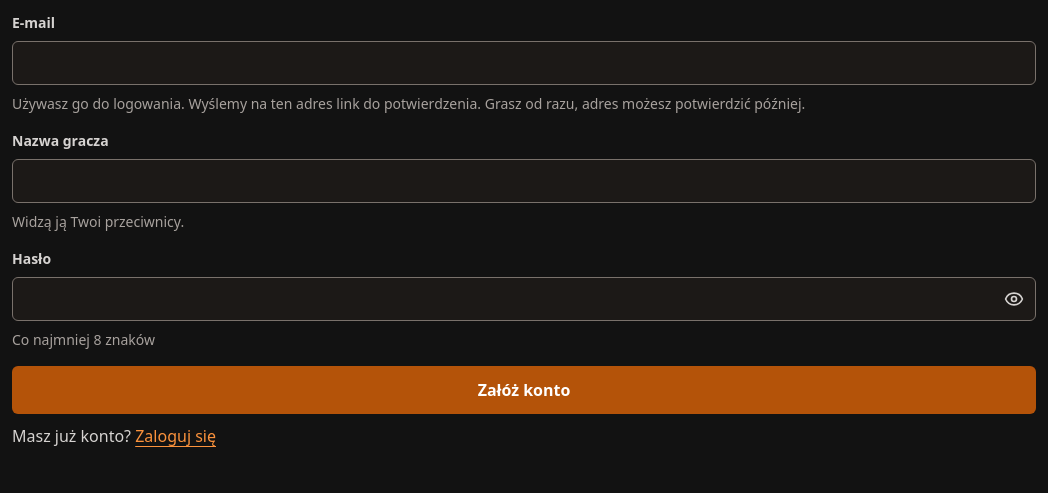
Test: RegisterForm › shows server-side field errors of the password
Type "ala@example.com" into the field labelled "E-mail" at (524, 63), box [12,41,1036,85]
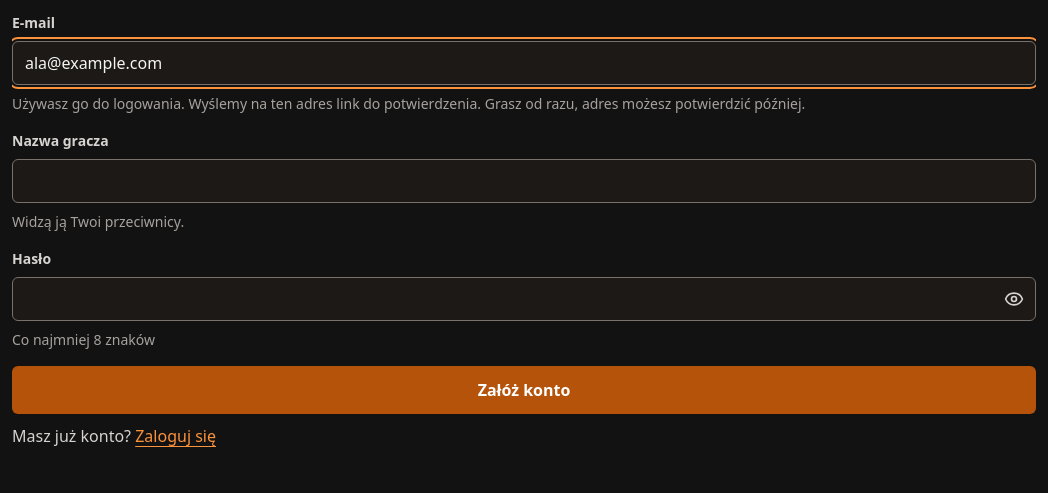
Type "Ala_7" into the field labelled "Nazwa gracza" at (524, 181), box [12,159,1036,203]
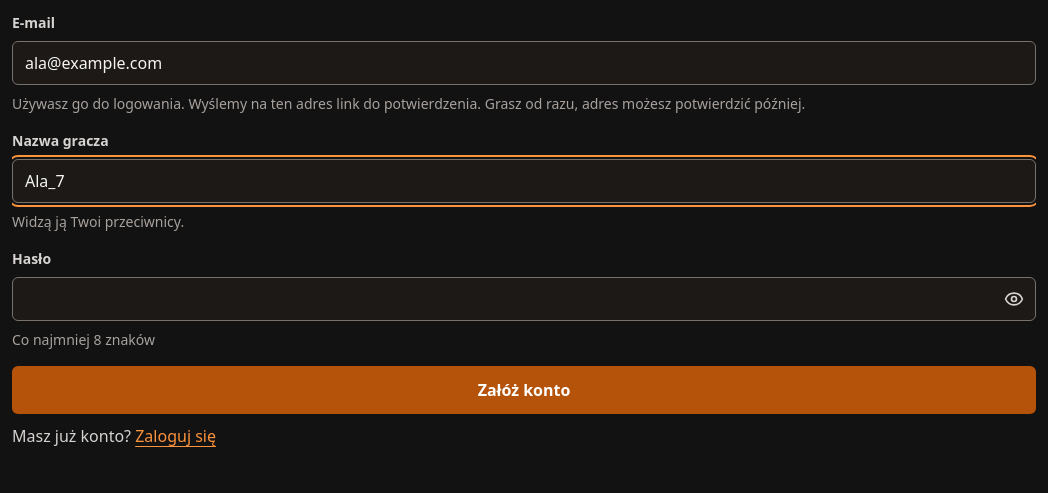
Type "secret123" into the password field labelled "Hasło" at (524, 299), box [12,277,1036,321]
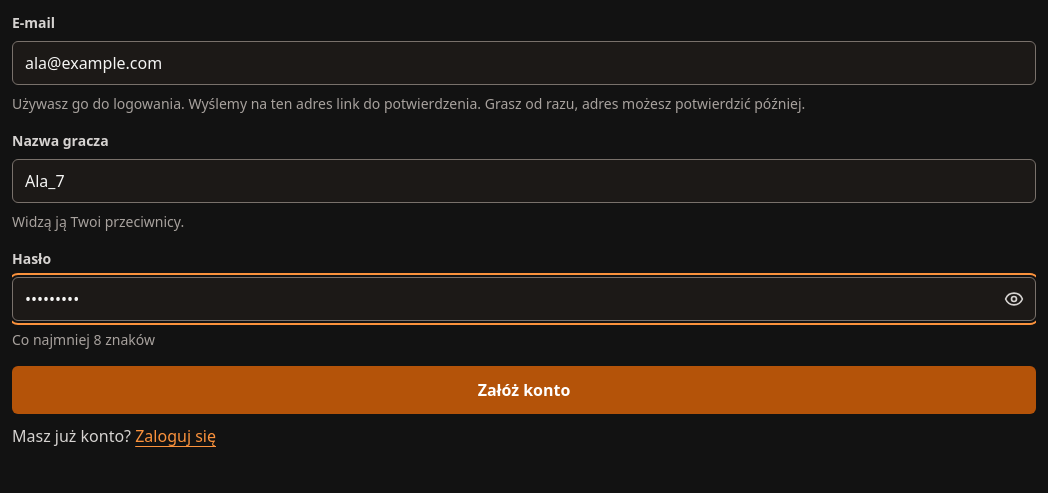
Click the button "Załóż konto" at (524, 390), box [12,366,1036,414]
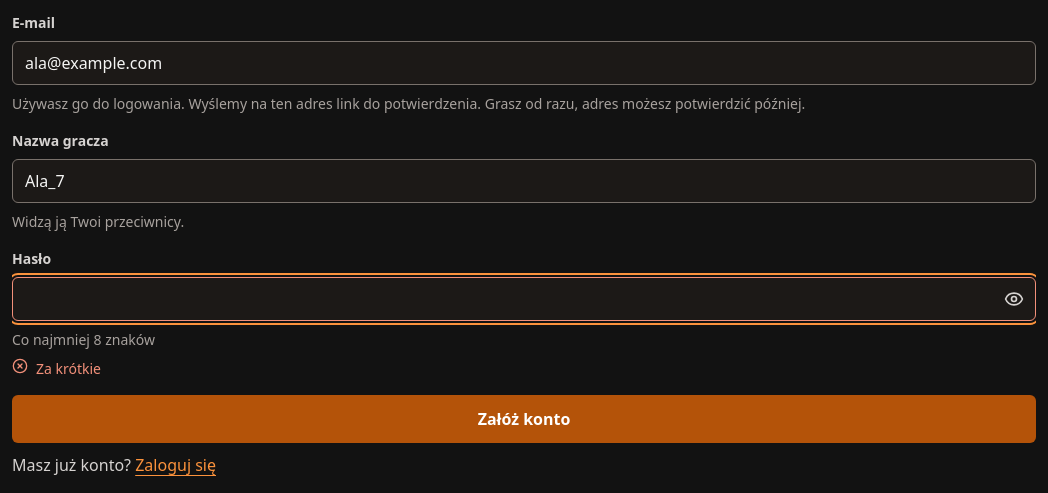
expect the text "Za krótkie" is shown: met, box [36,358,101,379]
